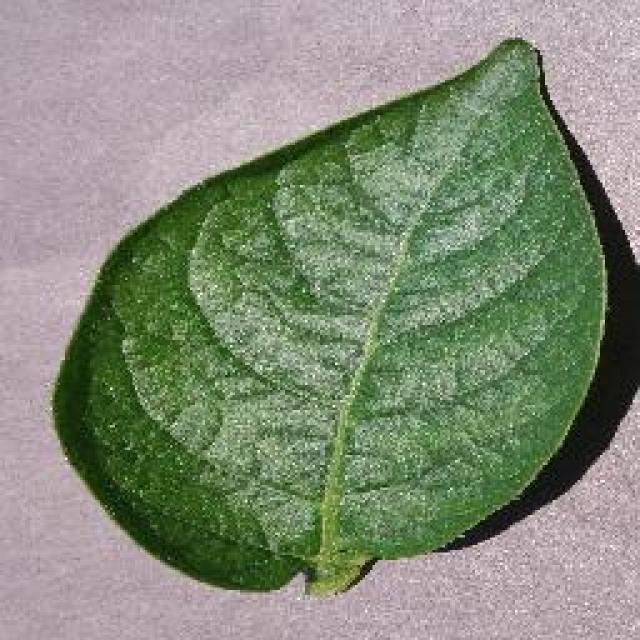Potato: (48, 35, 610, 597)
